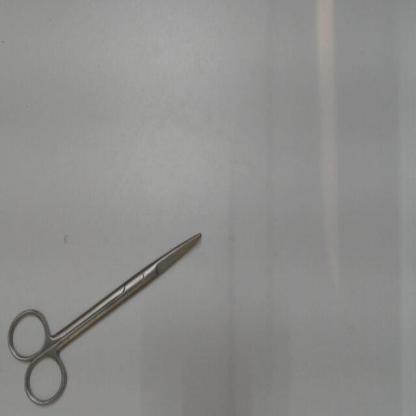Curved Mayo Scissors: (3, 226, 208, 412)
